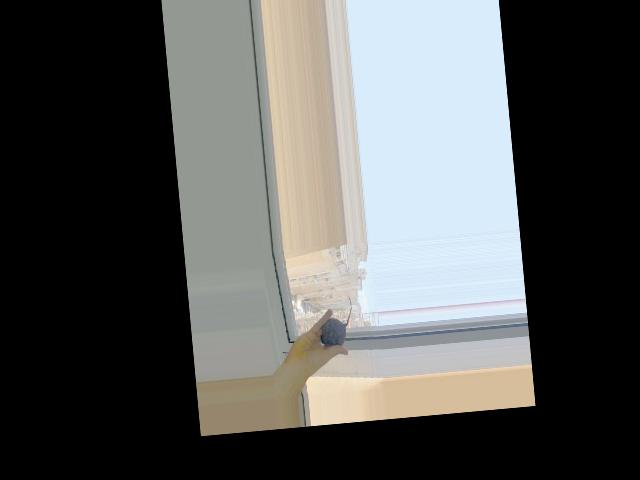beet: (316, 293, 355, 347)
